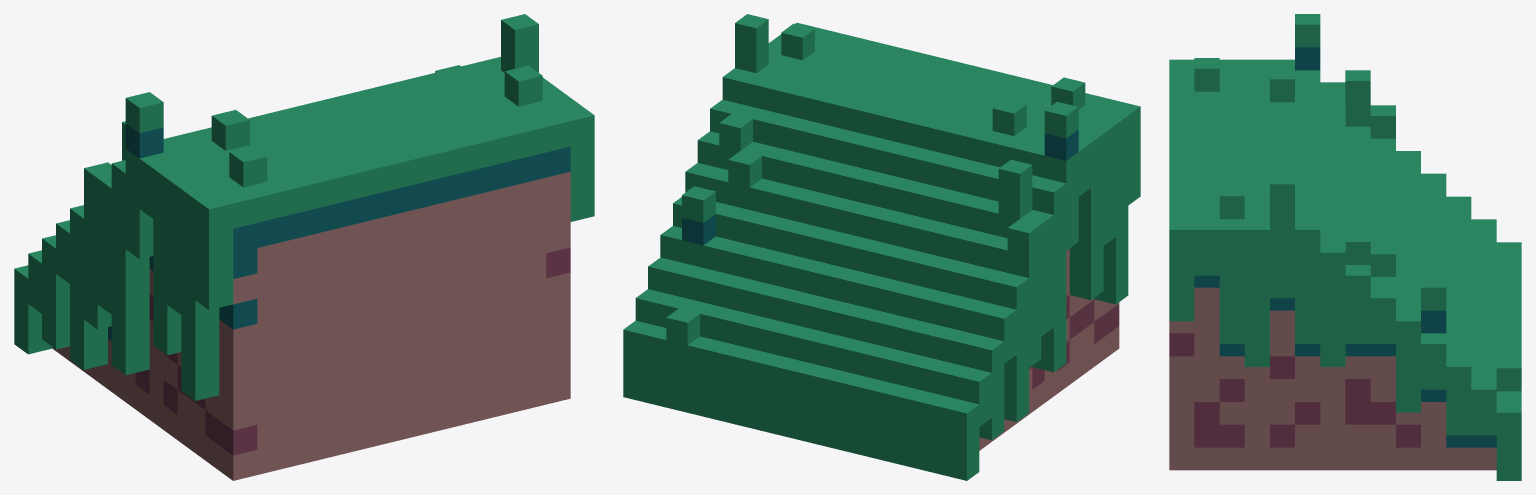
The model's file is sueloPlataform-3.obj.
The picture shows the model from 3 angles, left to right: view 1: azimuth 30°, elevation 25°; view 2: azimuth 150°, elevation 25°; view 3: azimuth 270°, elevation 25°; orthographic projection. The views are drawn at different scales.
Size of the model in its own units: 1.6 by 1.3 by 1.4.
1 material, 1 textured.
